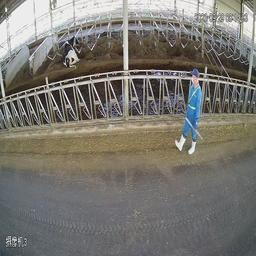cow: (61, 36, 83, 68)
